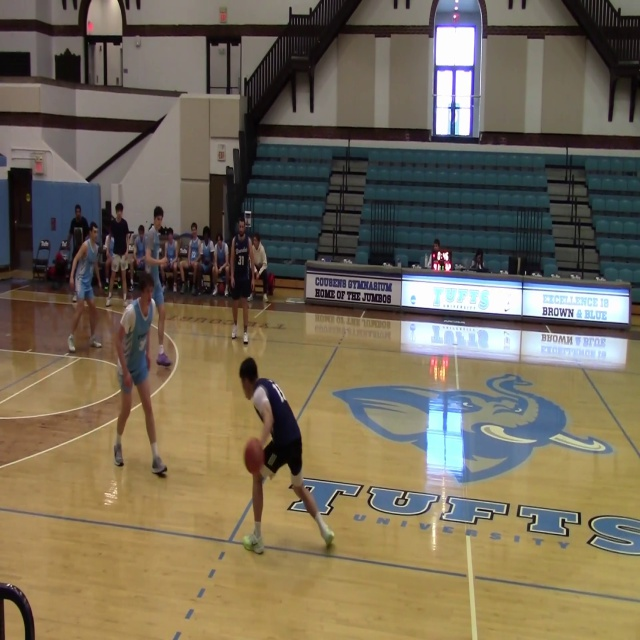Basketball: (243, 437, 264, 474)
